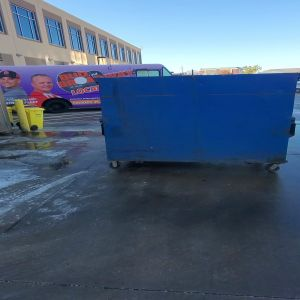Dumpster: (93, 76, 298, 175)
Person: (30, 73, 54, 97), (1, 70, 22, 92)
